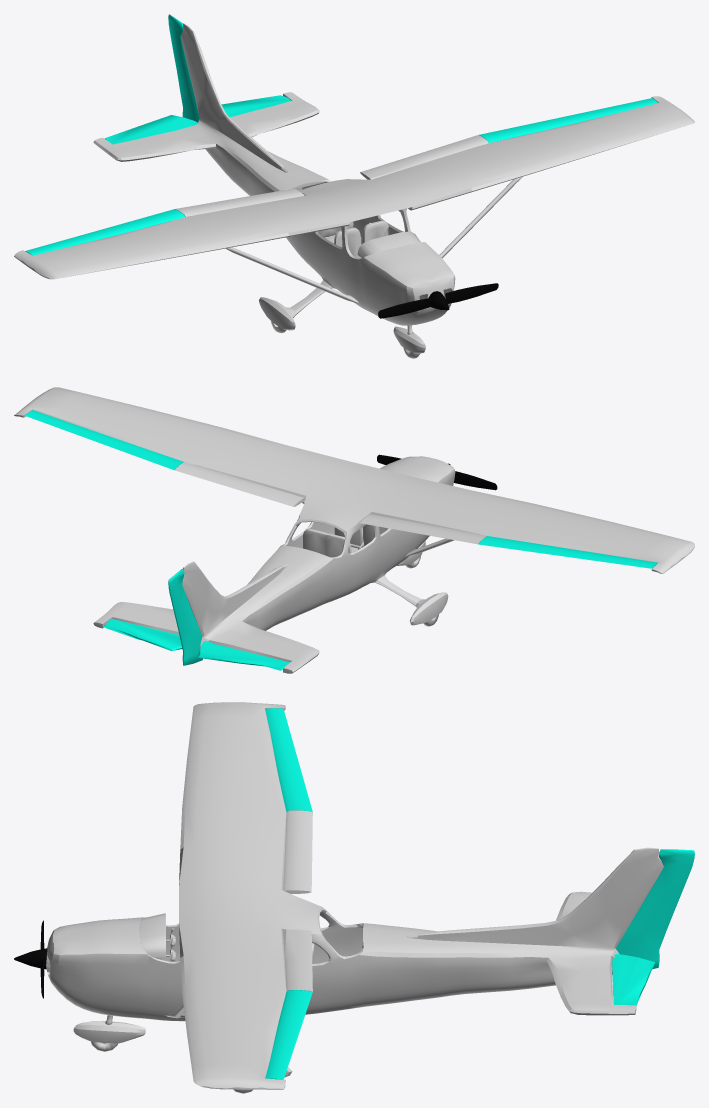
3 views of the same model, one above another, from view 1: azimuth 30°, elevation 25°; view 2: azimuth 150°, elevation 25°; view 3: azimuth 270°, elevation 25° (orthographic). The views are drawn at different scales.
Parts seen in each view (by area): view 1: Frame, Cockpit, FLAPS, ELEVATOR, LEFT_AILERON, RIGHT_AILERON, PROP, RUDDER; view 2: Frame, FLAPS, ELEVATOR, Cockpit, RUDDER, LEFT_AILERON, RIGHT_AILERON, PROP; view 3: Frame, RUDDER, FLAPS, Cockpit, RIGHT_AILERON, LEFT_AILERON, ELEVATOR, PROP.
Boxes of the visible parts, <box> form: Frame: <box>14,23,694,330</box>; Cockpit: <box>226,169,522,358</box>; FLAPS: <box>176,135,488,217</box>; ELEVATOR: <box>105,95,290,144</box>; LEFT_AILERON: <box>479,98,657,142</box>; RIGHT_AILERON: <box>25,209,185,255</box>; PROP: <box>378,283,498,318</box>; RUDDER: <box>168,14,199,122</box>; Frame: <box>14,387,694,673</box>; FLAPS: <box>175,462,486,544</box>; ELEVATOR: <box>103,619,289,670</box>; Cockpit: <box>302,501,454,626</box>; RUDDER: <box>168,569,202,665</box>; LEFT_AILERON: <box>25,410,183,470</box>; RIGHT_AILERON: <box>478,536,657,568</box>; PROP: <box>377,454,497,490</box>; Frame: <box>46,702,663,1089</box>; RUDDER: <box>615,849,694,969</box>; FLAPS: <box>283,810,312,991</box>; Cockpit: <box>73,810,314,1093</box>; RIGHT_AILERON: <box>265,708,312,811</box>; LEFT_AILERON: <box>265,990,312,1079</box>; ELEVATOR: <box>612,954,654,1005</box>; PROP: <box>14,920,47,998</box>.
Bounding box in the file's own units: 10.94 × 2.7 × 8.2.
